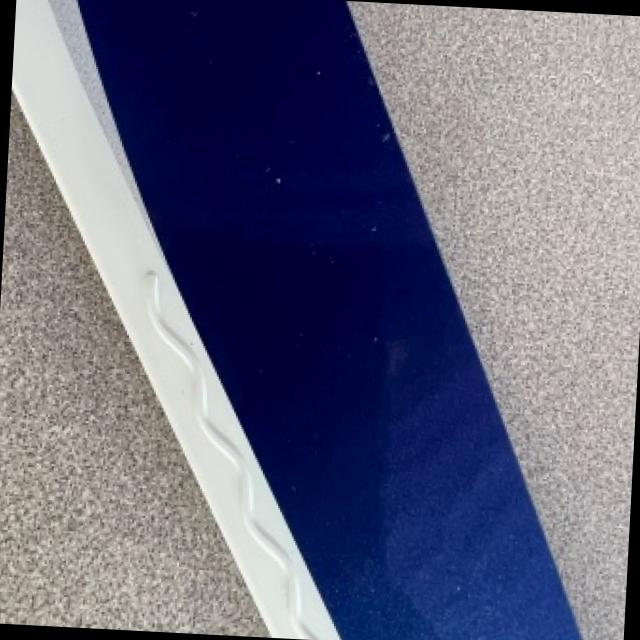healthy: (0, 99, 263, 635)
